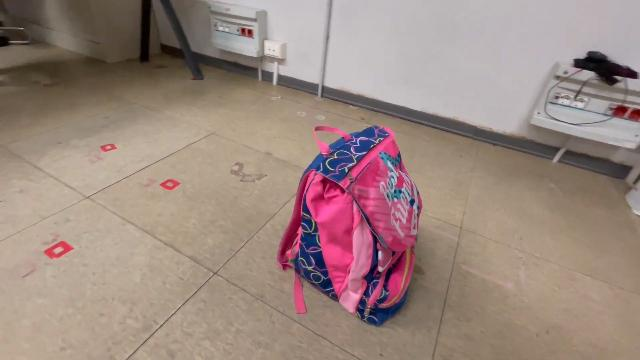Backpack: (270, 118, 428, 334)
